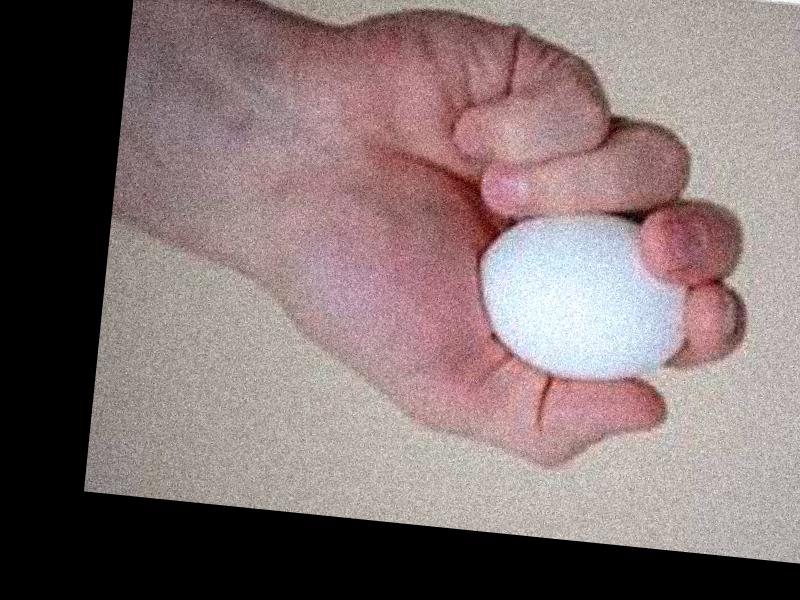Eggs: (466, 204, 695, 389)
